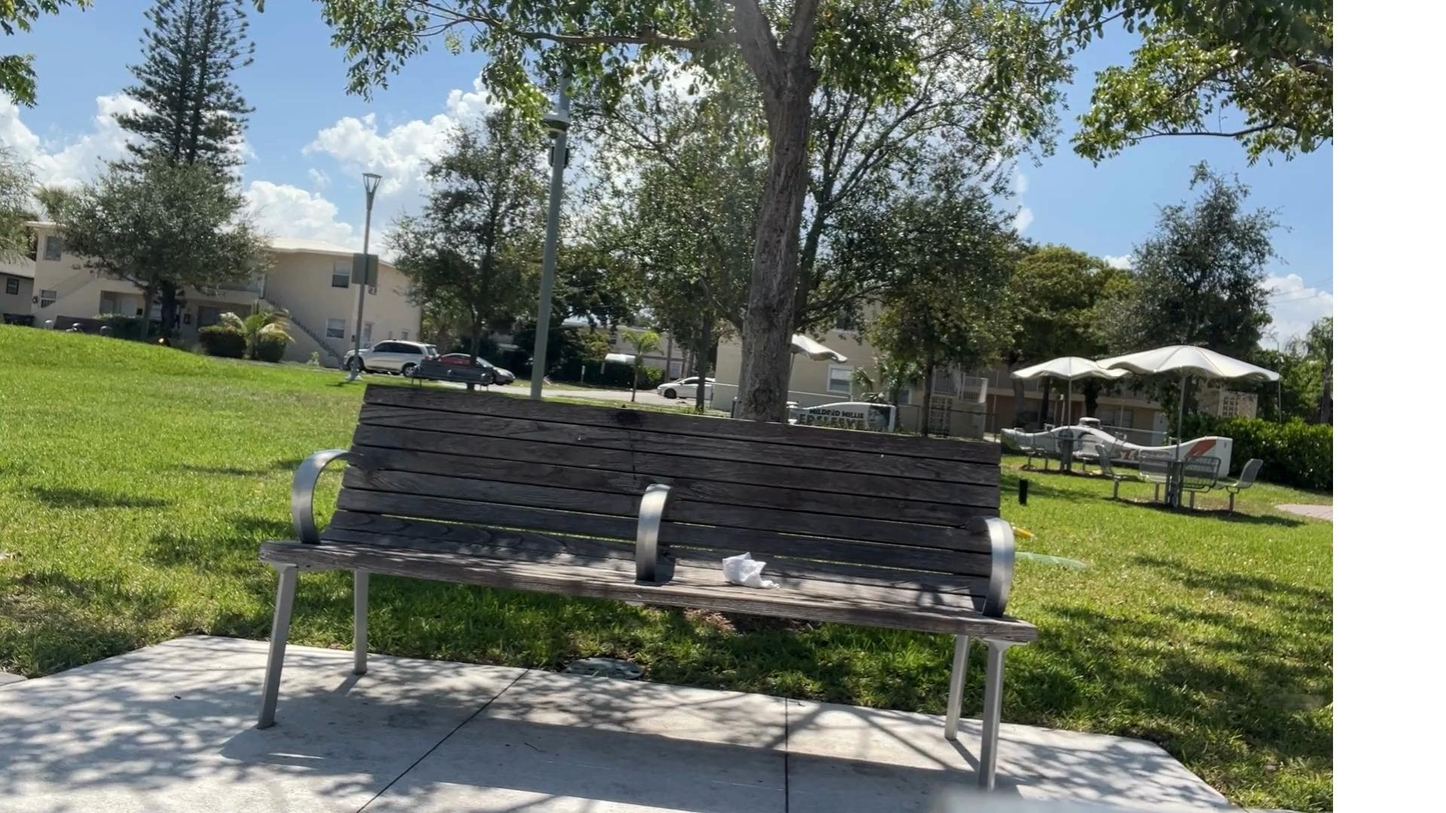Trash: (714, 552, 779, 592)
